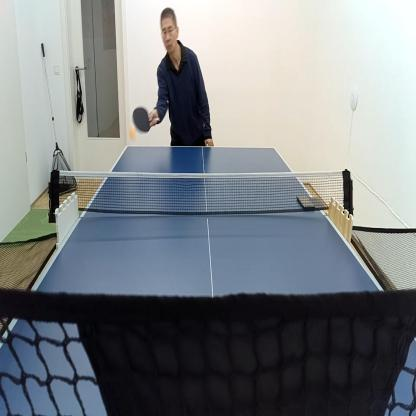Ball: (129, 127, 135, 137)
